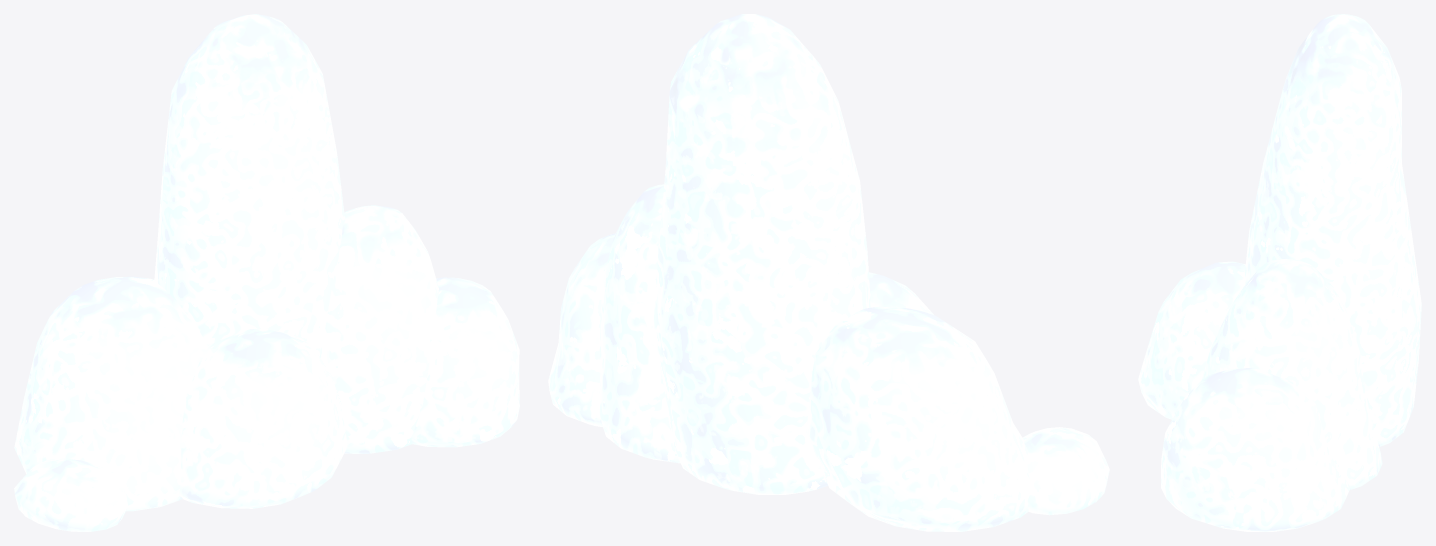
Rendered from 084_round_stones.glb.
3 renders of one model, left to right at view 1: azimuth 30°, elevation 25°; view 2: azimuth 150°, elevation 25°; view 3: azimuth 270°, elevation 25°, orthographic. The views are drawn at different scales.
Visible parts, largest first — view 1: stone_3, stone_2, stone_1, stone_4, stone_5, stone_6; view 2: stone_3, stone_2, stone_4, stone_5, stone_6, stone_1; view 3: stone_3, stone_5, stone_4, stone_1.
Boxes of the visible parts, x1=… form: stone_3: x1=154, y1=14, x2=345, y2=356; stone_2: x1=14, y1=276, x2=207, y2=511; stone_1: x1=179, y1=328, x2=347, y2=508; stone_4: x1=319, y1=205, x2=438, y2=453; stone_5: x1=411, y1=277, x2=519, y2=447; stone_6: x1=14, y1=458, x2=128, y2=531; stone_3: x1=653, y1=14, x2=870, y2=494; stone_2: x1=806, y1=306, x2=1030, y2=531; stone_4: x1=599, y1=184, x2=680, y2=463; stone_5: x1=548, y1=233, x2=615, y2=426; stone_6: x1=1022, y1=427, x2=1109, y2=515; stone_1: x1=869, y1=272, x2=933, y2=314; stone_3: x1=1243, y1=14, x2=1421, y2=446; stone_5: x1=1161, y1=368, x2=1350, y2=531; stone_4: x1=1202, y1=258, x2=1382, y2=489; stone_1: x1=1138, y1=261, x2=1245, y2=419.
Bounding box in the file's own units: 1.5 × 1.22 × 0.7559.
1 material, 1 textured.
